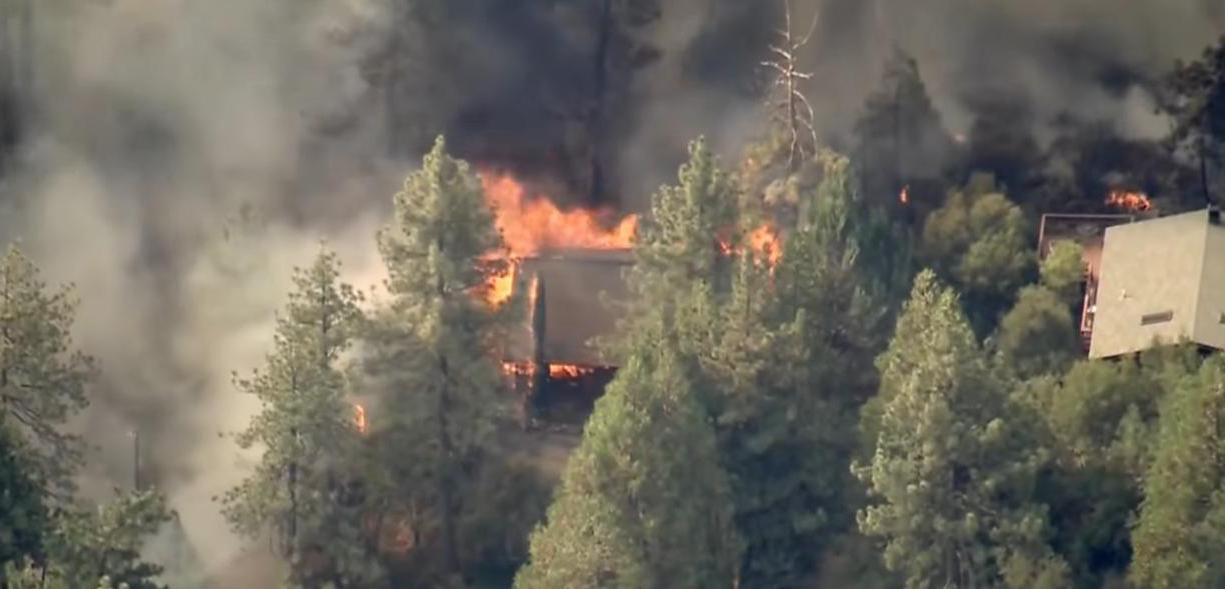Fire: (438, 162, 675, 394), (747, 220, 785, 281)
